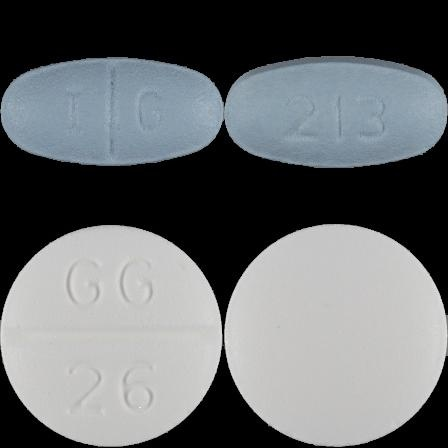0904-6332: (0, 0, 224, 224)
